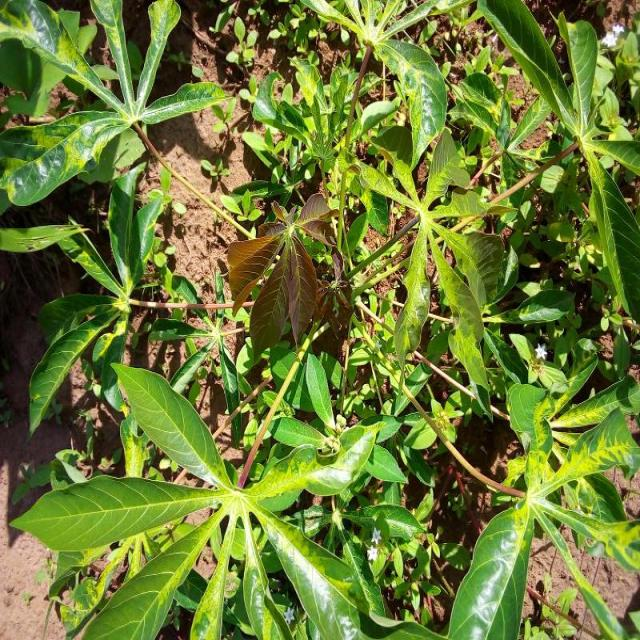cassava leaf: (2, 0, 638, 639), (9, 352, 406, 638), (446, 500, 534, 639)
